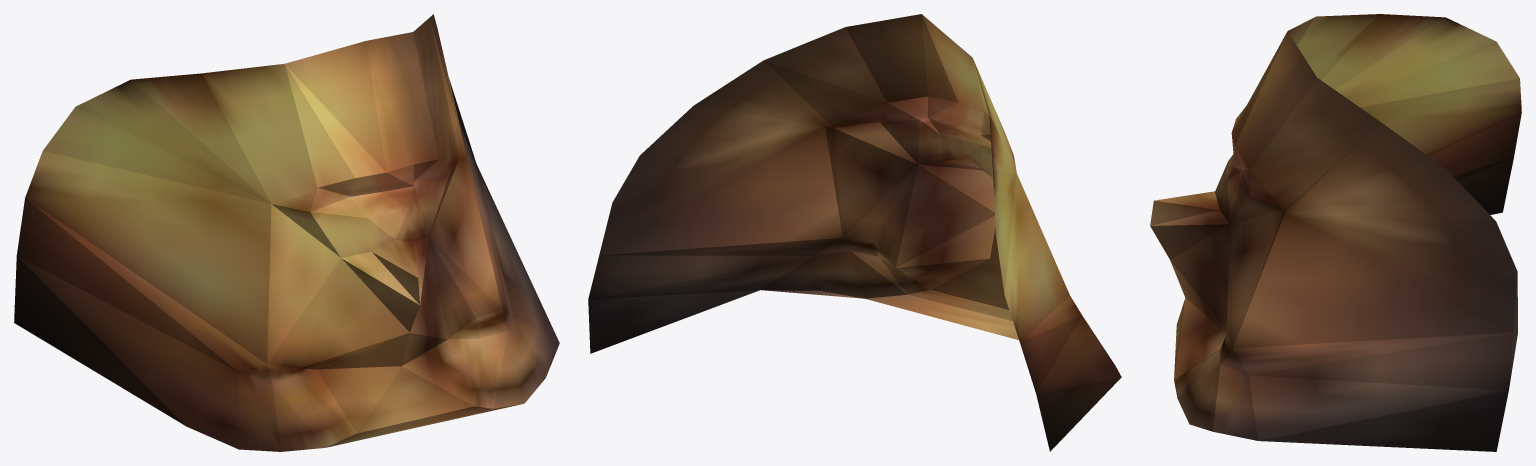
File: fake_7127.obj
3 views of the same model, side by side, from view 1: azimuth 30°, elevation 25°; view 2: azimuth 150°, elevation 25°; view 3: azimuth 270°, elevation 25° (orthographic). The views are drawn at different scales.
Size of the model in its own units: 113 by 81 by 79.77.
